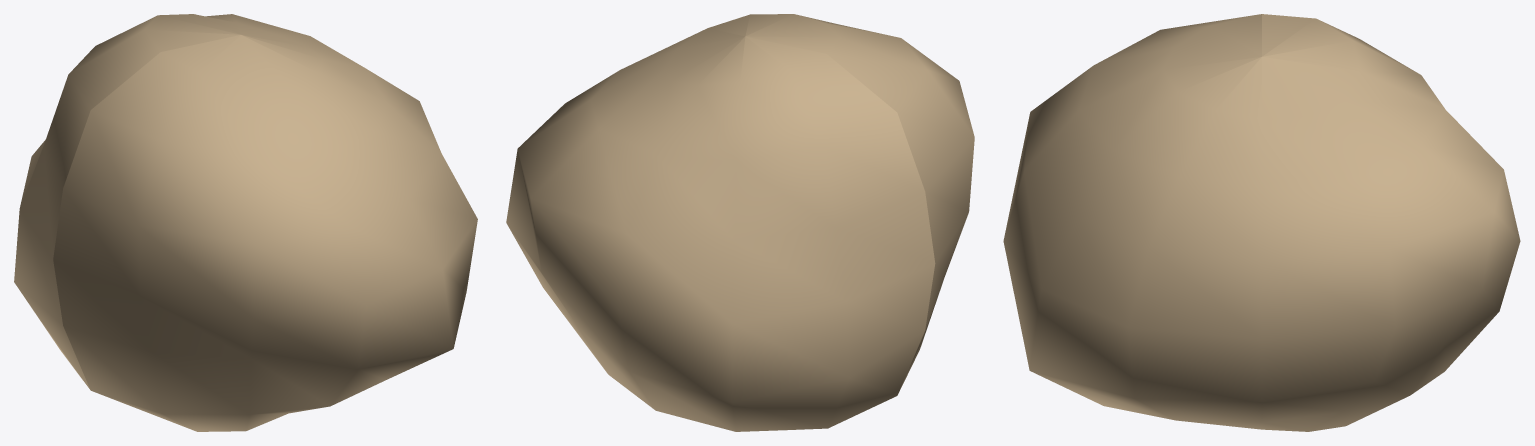
File: left_talus.glb
The picture shows the model from 3 angles, left to right: view 1: azimuth 30°, elevation 25°; view 2: azimuth 150°, elevation 25°; view 3: azimuth 270°, elevation 25°; orthographic projection. The views are drawn at different scales.
Visible parts, largest first — view 1: left_talus:body; view 2: left_talus:body; view 3: left_talus:body.
Part boxes in pixels (x1,y1,x2,y2): left_talus:body: (14, 14, 477, 431); left_talus:body: (506, 14, 974, 431); left_talus:body: (1003, 14, 1520, 431).
Size of the model in its own units: 0.0528 by 0.048 by 0.06.
